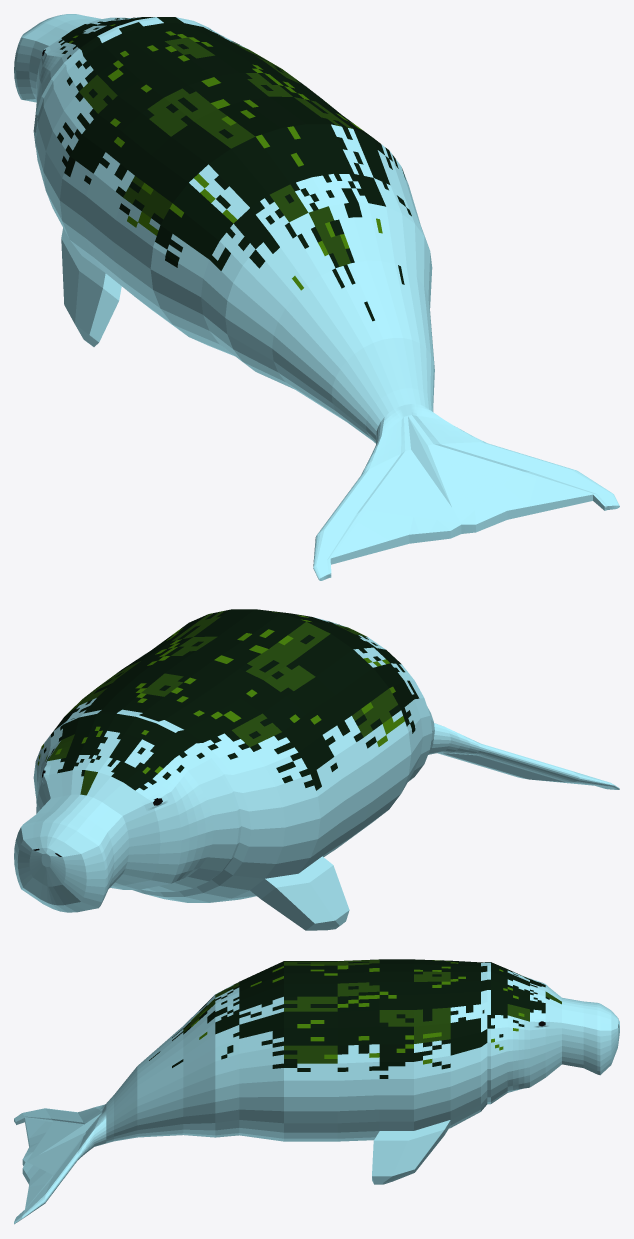
The model's file is dugong.obj.
The picture shows the model from 3 angles, top to bottom: view 1: azimuth 30°, elevation 25°; view 2: azimuth 150°, elevation 25°; view 3: azimuth 270°, elevation 25°; orthographic projection. The views are drawn at different scales.
Visible parts, largest first — view 1: Circle; view 2: Circle; view 3: Circle.
Part boxes in pixels (bbox=[...]): Circle: bbox=[14, 14, 619, 580]; Circle: bbox=[14, 609, 619, 930]; Circle: bbox=[14, 959, 619, 1224].
Bounding box in the file's own units: 2.31 × 2.06 × 5.62.
